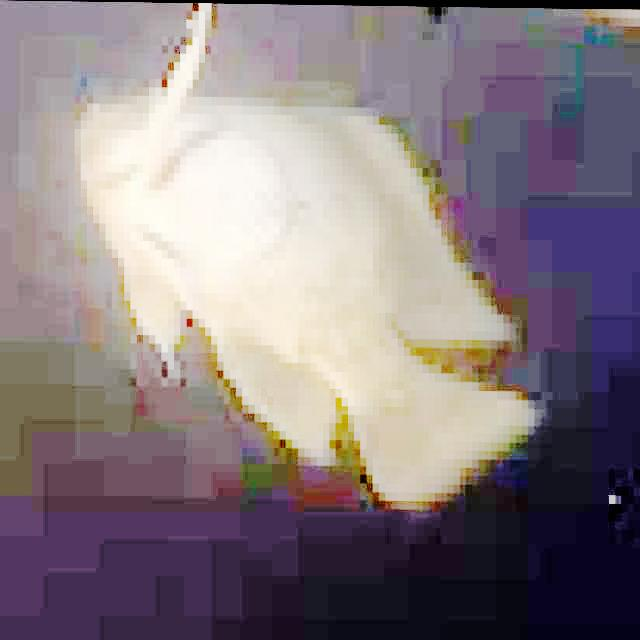Columnaris Disease: (80, 6, 533, 503)
